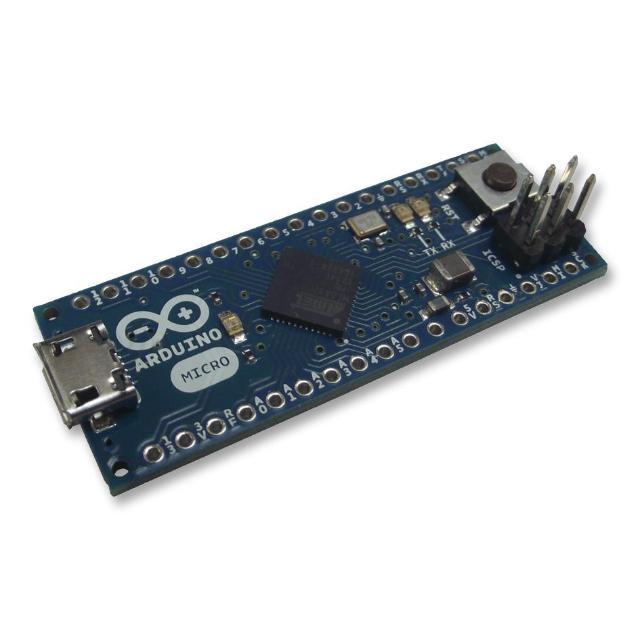Arduino-Micro: (35, 145, 607, 495)
